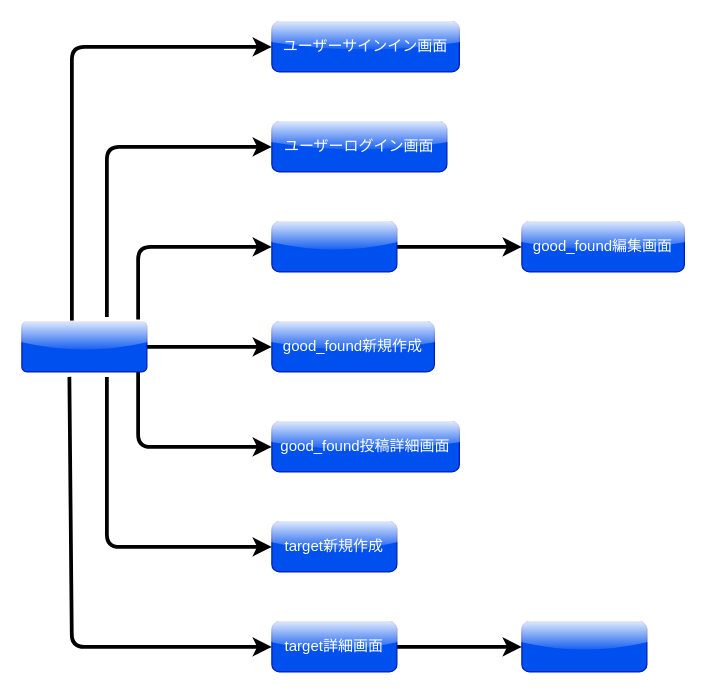
Image size: 706x694. Some labels were removed from this diagram. The box of each missing label's shape, as (x1, y1, x2, y2) in pixels:
target編集画面: (521, 621, 647, 672)
Topページ: (21, 321, 147, 372)
ユーザー詳細画面: (271, 221, 397, 272)
